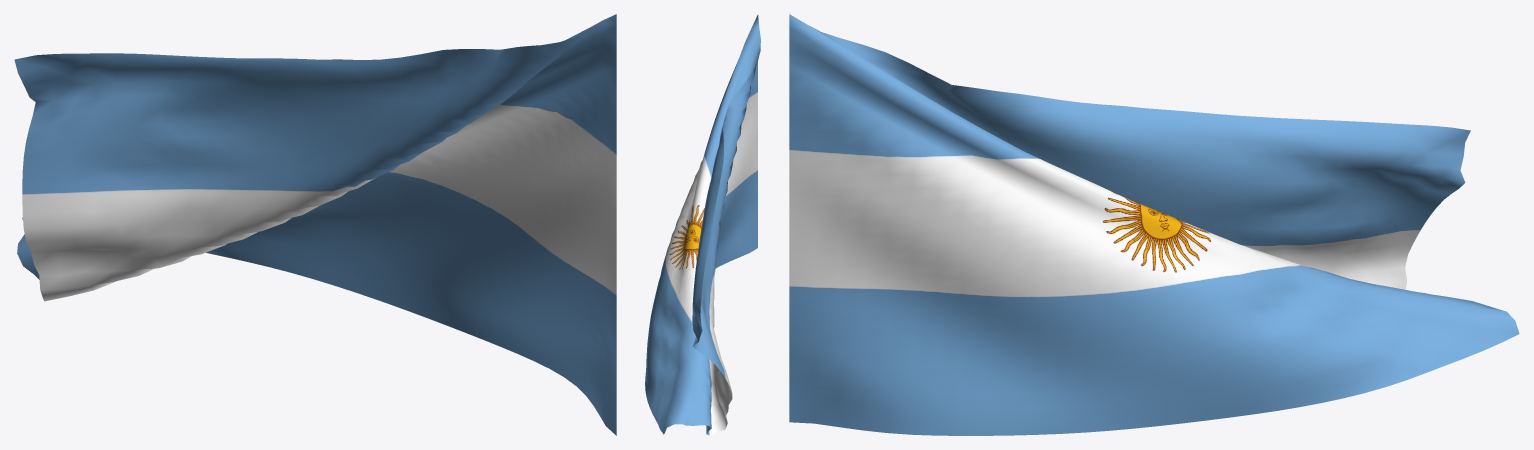
The model's file is Bandera3.glb.
3 views of the same model, side by side, from view 1: azimuth 30°, elevation 25°; view 2: azimuth 150°, elevation 25°; view 3: azimuth 270°, elevation 25° (orthographic). The views are drawn at different scales.
Parts seen in each view (by area): view 1: export_mesh; view 2: export_mesh; view 3: export_mesh.
Part boxes in pixels (x1,y1,x2,y2): export_mesh: (14,14,616,435); export_mesh: (645,15,760,435); export_mesh: (789,14,1519,435).
Size of the model in its own units: 0.8311 by 1.24 by 1.83.
Materials: 1 (1 with a texture image).
